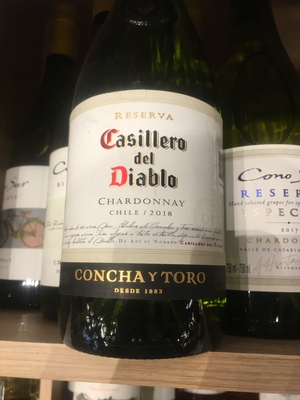casillero del diablo chardonnay: (62, 45, 239, 338)
